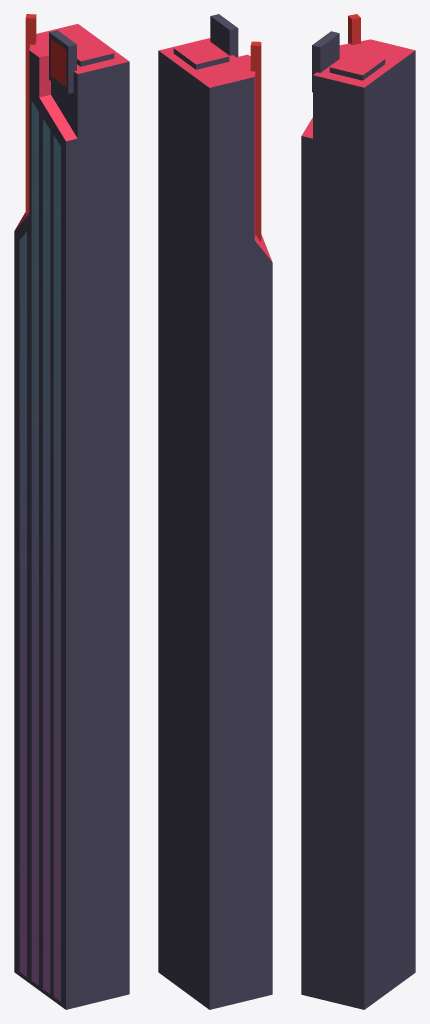
Rendered from CbpBuild E.fbx.
3 views of the same model, side by side, from view 1: azimuth 30°, elevation 25°; view 2: azimuth 210°, elevation 25°; view 3: azimuth 330°, elevation 25° (orthographic).
Visible parts, largest first — view 1: CbpBuild E; view 2: CbpBuild E; view 3: CbpBuild E.
Boxes of the visible parts, x1=… form: CbpBuild E: x1=14, y1=14, x2=129, y2=1009; CbpBuild E: x1=158, y1=14, x2=272, y2=1009; CbpBuild E: x1=301, y1=14, x2=415, y2=1009.
Size of the model in its own units: 7.45 by 107 by 10.45.
